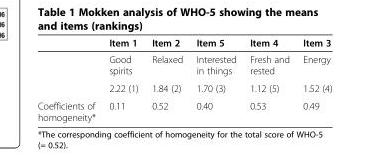table: (36, 36, 331, 122)
table column: (36, 36, 101, 122), (188, 36, 242, 122), (242, 36, 295, 122), (144, 36, 188, 122), (101, 36, 144, 122), (295, 36, 331, 122)
table column header: (36, 36, 331, 50)
table row: (36, 50, 331, 79), (36, 96, 331, 122), (36, 79, 331, 96), (36, 36, 331, 50)
